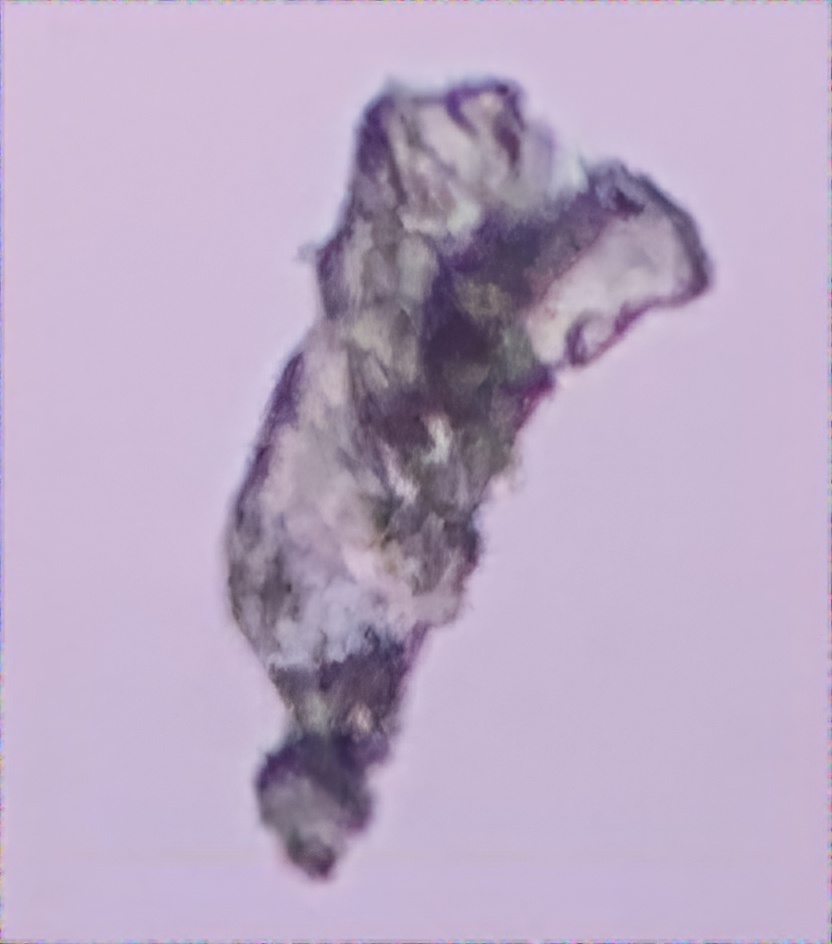microplastic: (210, 56, 720, 888)
